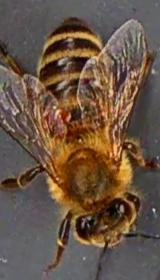varroa_mite: (57, 102, 73, 120)
